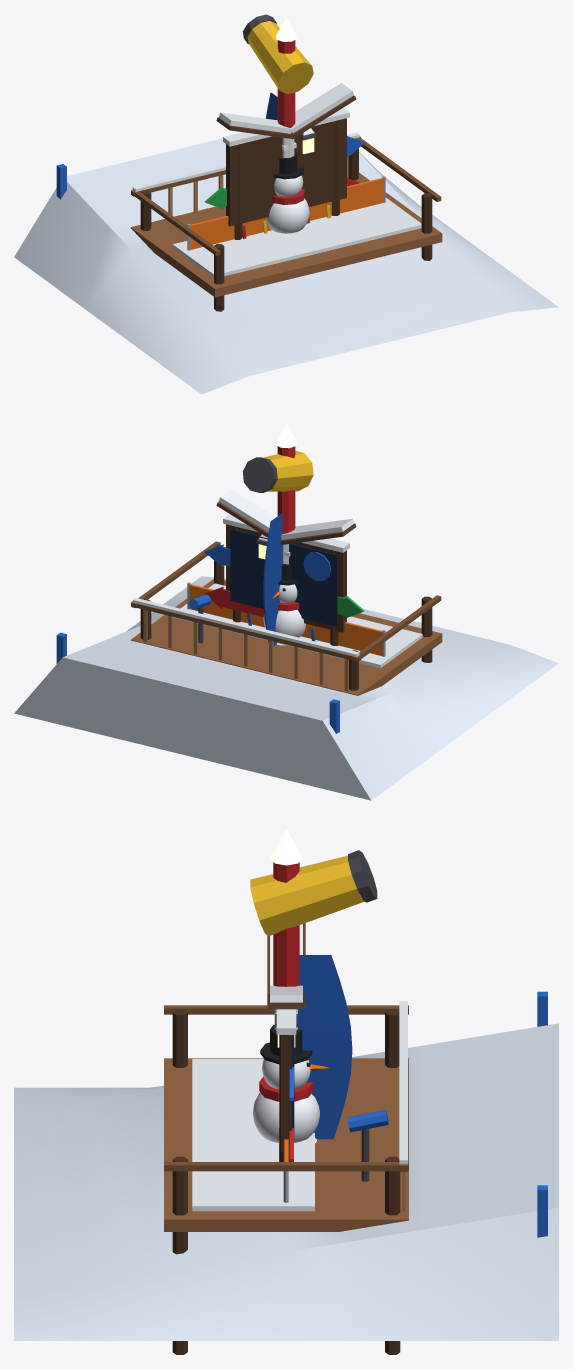
File: SV_Props.fbx
3 views of the same model, one above another, from view 1: azimuth 30°, elevation 25°; view 2: azimuth 150°, elevation 25°; view 3: azimuth 270°, elevation 25° (orthographic). The views are drawn at different scales.
Visible parts, largest first — view 1: SVA_Kicker_PisteGroomed, SVA_SectionSign_WoodDark, SVA_Lookout_Snow, SVA_Lookout_Planks, SVA_SafetyNet_PaintOrange, SVA_SectionSign_Snow, SVA_SnowCannon_PaintYellow, SVA_Lookout_Wood, SVA_Lookout_WoodDark, SVA_Snowman_Snow, SVA_GatePost_PaintRed, SVA_SectionSign_Shingle (+1 smaller); view 2: SVA_Kicker_PisteGroomed, SVA_Lookout_Planks, SVA_SectionSign_SignBoard, SVA_Lookout_Snow, SVA_Lookout_Wood, SVA_SectionSign_Snow, SVA_SafetyNet_PaintOrange, SVA_FlagBlue_FabricBlue, SVA_Lookout_WoodLight, SVA_SectionSign_WoodDark, SVA_SnowCannon_PaintYellow, SVA_Lookout_WoodDark (+7 smaller); view 3: SVA_Kicker_PisteGroomed, SVA_Lookout_Planks, SVA_Lookout_Snow, SVA_FlagBlue_FabricBlue, SVA_SnowCannon_PaintYellow, SVA_Lookout_WoodDark, SVA_Lookout_Wood, SVA_Snowman_Snow, SVA_GatePost_PaintRed, SVA_SectionSign_WoodDark, SVA_SectionSign_Snow, SVA_Kicker_PaintBlue (+4 smaller).
Part boxes in pixels (x1,y1,x2,y2): SVA_Kicker_PisteGroomed: (14,138,558,394); SVA_SectionSign_WoodDark: (226,118,346,239); SVA_Lookout_Snow: (132,132,421,277); SVA_Lookout_Planks: (130,173,442,297); SVA_SafetyNet_PaintOrange: (190,178,384,249); SVA_SectionSign_Snow: (219,83,353,146); SVA_SnowCannon_PaintYellow: (247,20,313,94); SVA_Lookout_Wood: (131,136,441,255); SVA_Lookout_WoodDark: (140,148,432,311); SVA_Snowman_Snow: (267,175,309,233); SVA_GatePost_PaintRed: (277,40,295,127); SVA_SectionSign_Shingle: (216,95,356,139); SVA_Kicker_PisteGroomed: (14,576,558,800); SVA_Lookout_Planks: (130,579,442,695); SVA_SectionSign_SignBoard: (230,529,338,626); SVA_Lookout_Snow: (132,583,422,668); SVA_Lookout_Wood: (131,541,441,661); SVA_SectionSign_Snow: (218,489,354,552); SVA_SafetyNet_PaintOrange: (189,584,382,655); SVA_FlagBlue_FabricBlue: (263,513,283,645); SVA_Lookout_WoodLight: (143,609,348,691); SVA_SectionSign_WoodDark: (226,524,346,645); SVA_SnowCannon_PaintYellow: (263,451,313,491); SVA_Lookout_WoodDark: (140,546,432,690); SVA_Kicker_PisteGroomed: (14,1023,558,1340); SVA_Lookout_Planks: (164,1058,408,1231); SVA_Lookout_Snow: (192,1001,407,1211); SVA_FlagBlue_FabricBlue: (298,955,352,1139); SVA_SnowCannon_PaintYellow: (250,855,364,936); SVA_Lookout_WoodDark: (172,1009,400,1354); SVA_Lookout_Wood: (164,1005,408,1171); SVA_Snowman_Snow: (252,1059,319,1142); SVA_GatePost_PaintRed: (273,862,299,986); SVA_SectionSign_WoodDark: (279,1035,291,1161); SVA_SectionSign_Snow: (270,924,302,1034); SVA_Kicker_PaintBlue: (537,991,547,1237).
Size of the model in its own units: 39.29 by 32.5 by 35.71.
